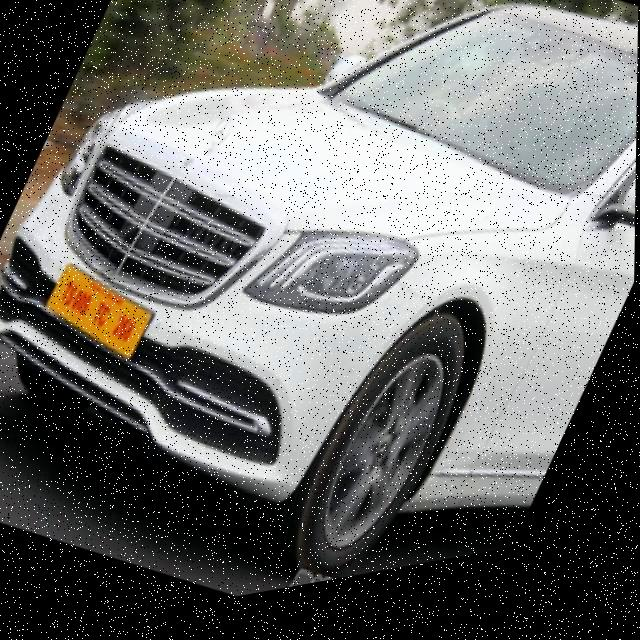license_plate: (35, 252, 158, 378)
